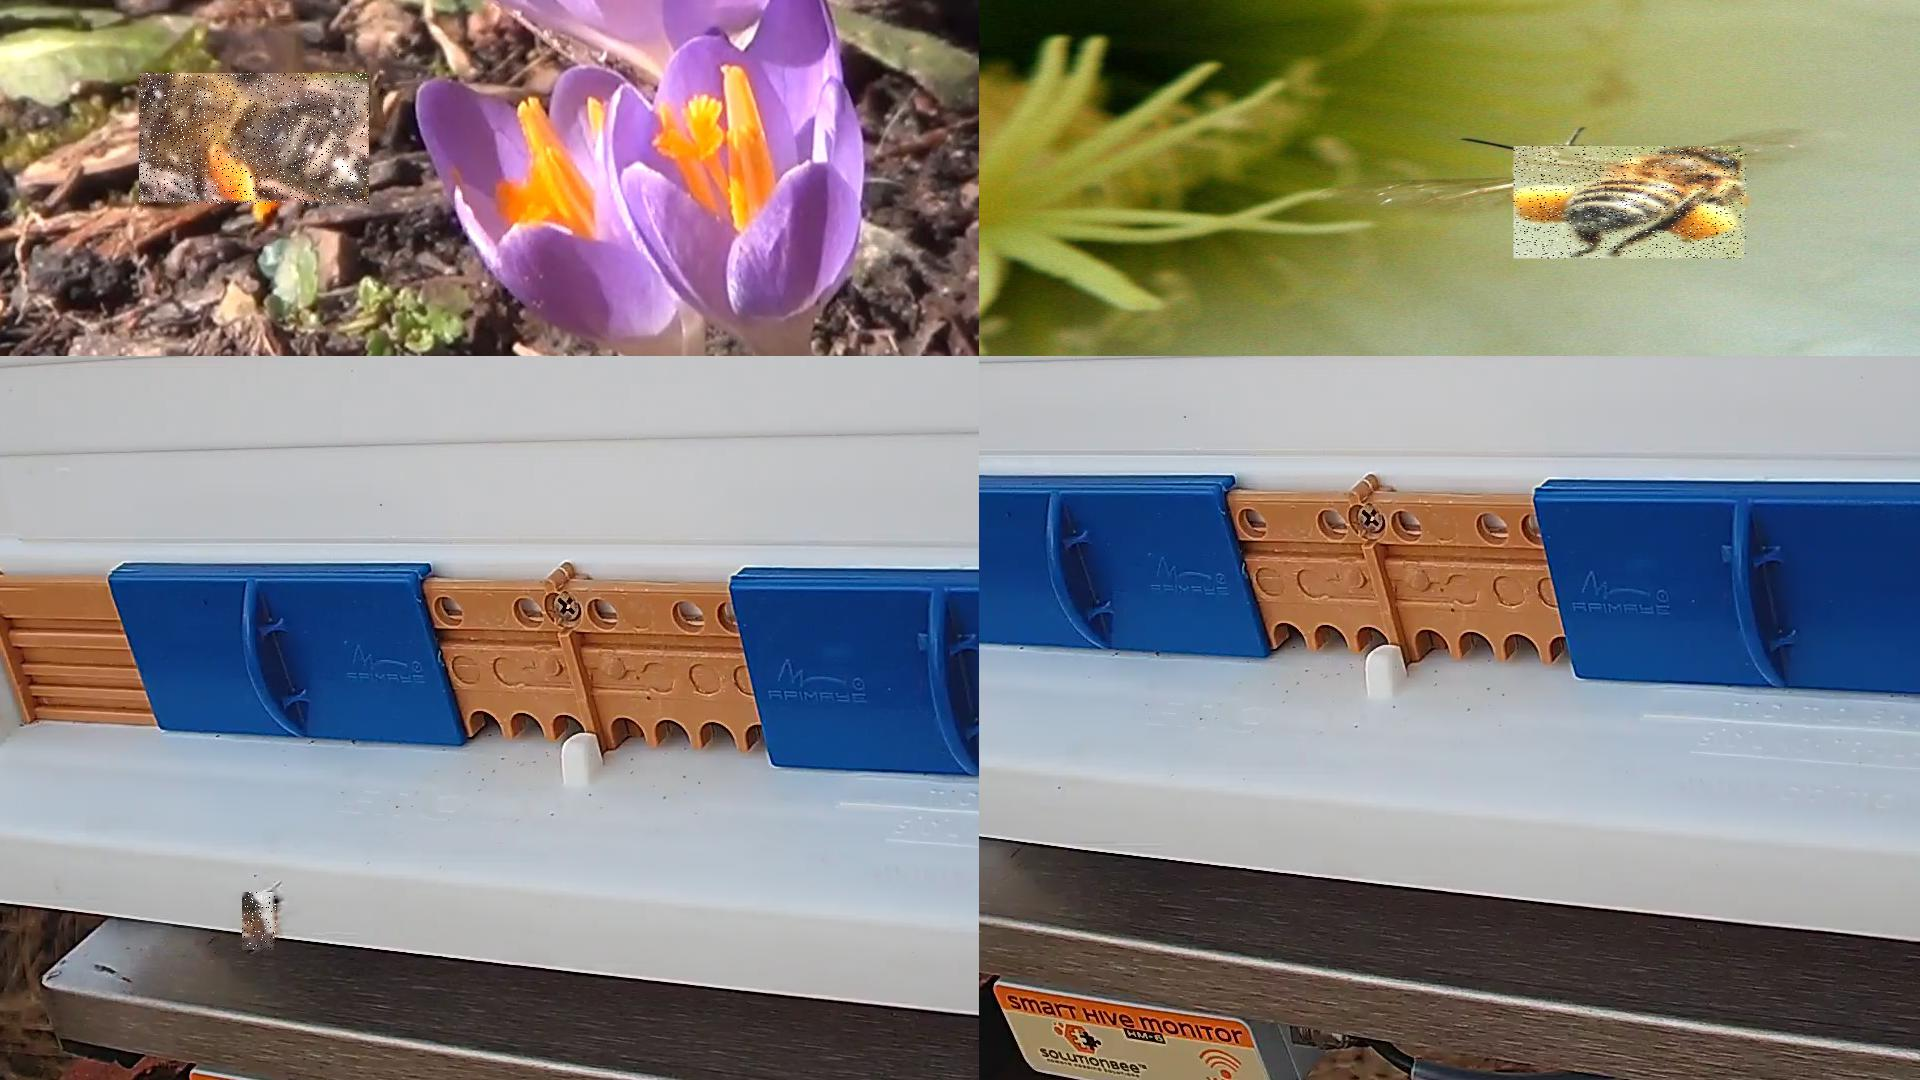bee: (138, 74, 371, 206), (243, 891, 278, 951)
pollenbee: (1514, 146, 1749, 258)
